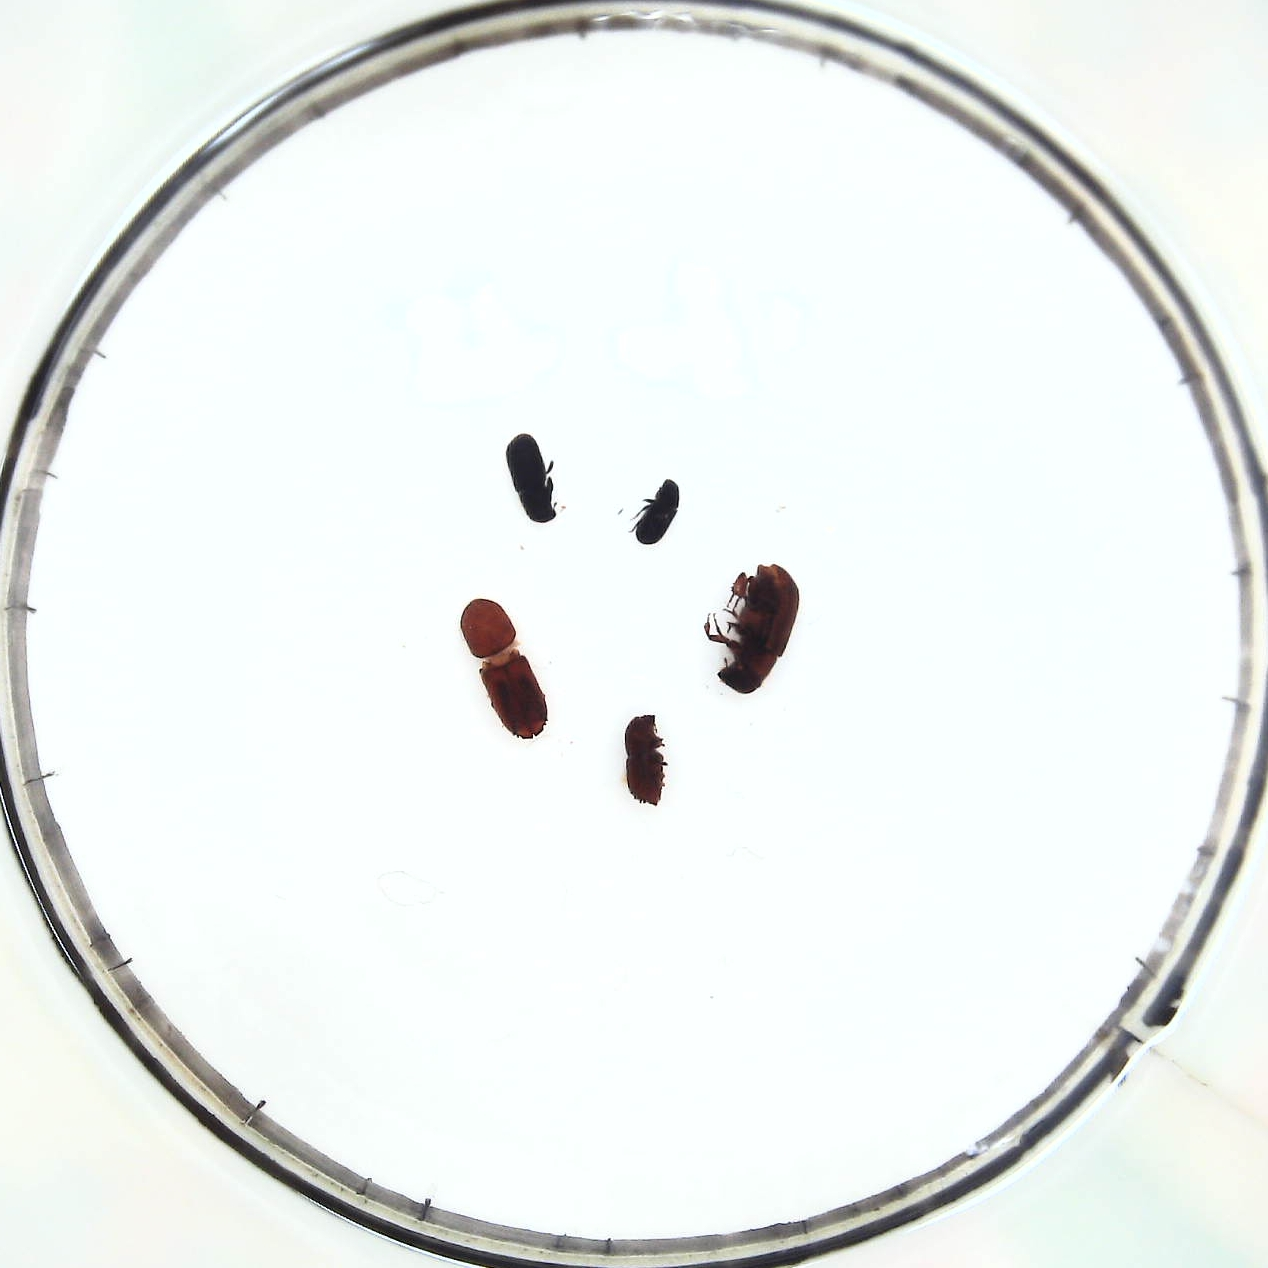Boerner: (460, 597, 549, 742)
Leconte: (709, 563, 800, 691)
Linnaeus: (624, 711, 673, 812)
armandi: (506, 430, 561, 524)
coleoptera: (637, 476, 680, 545)
